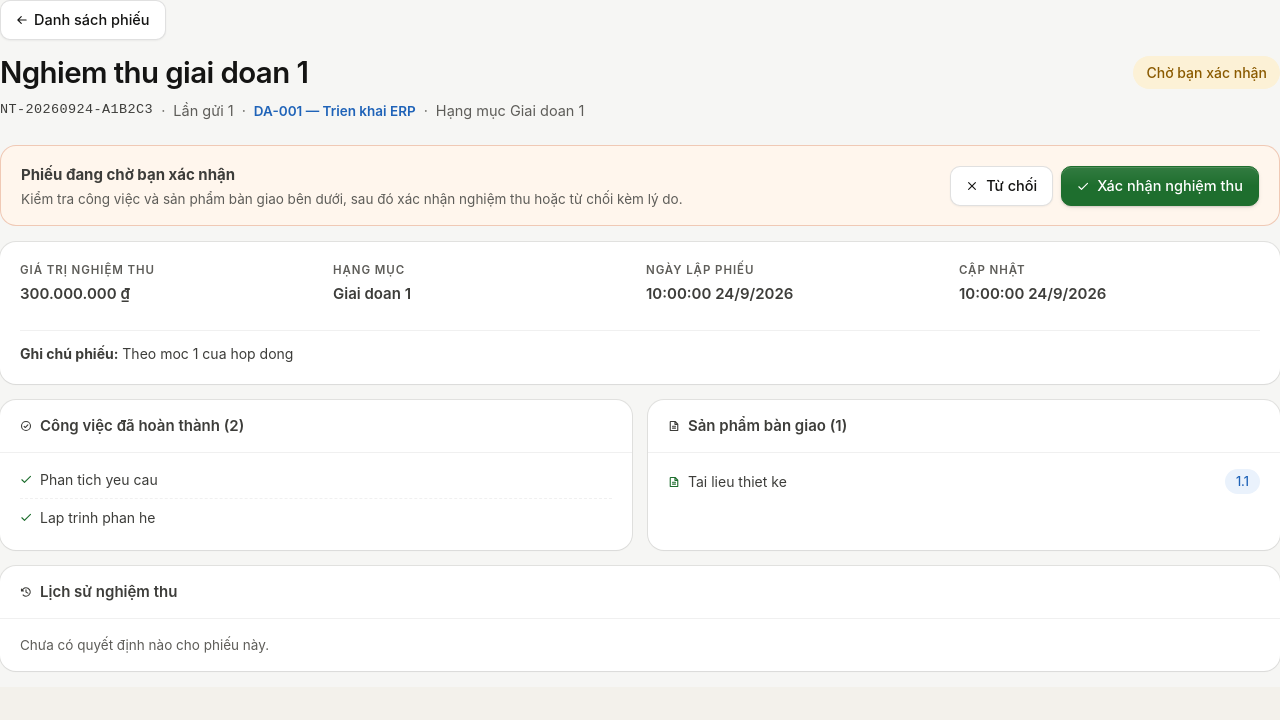
Test: NCL-13-CN-003 — Khách hàng duyệt phiếu nghiệm thu trên cổng › TC-01: xác nhận cần tích đồng ý; xác nhận xong phiếu → Đã nghiệm thu kèm người ký, thời điểm; khoá thao tác
The image size is (1280, 720).
Click the button with test id "portal-open-confirm" at (1160, 186), box [1061, 166, 1259, 206]
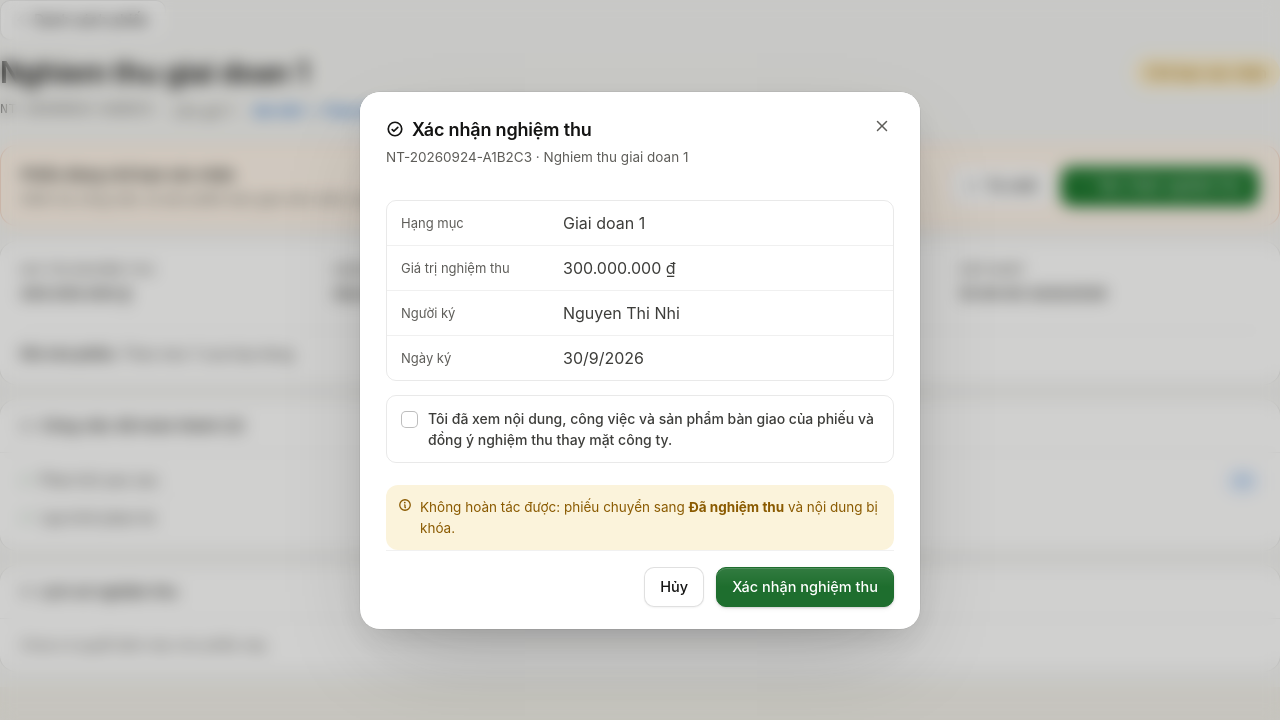
Now the element with test id "portal-decision-modal" shows "Nguyen Thi Nhi", box [563, 303, 680, 323]
Click the button with test id "portal-decision-submit" at (805, 587), box [716, 567, 894, 607]
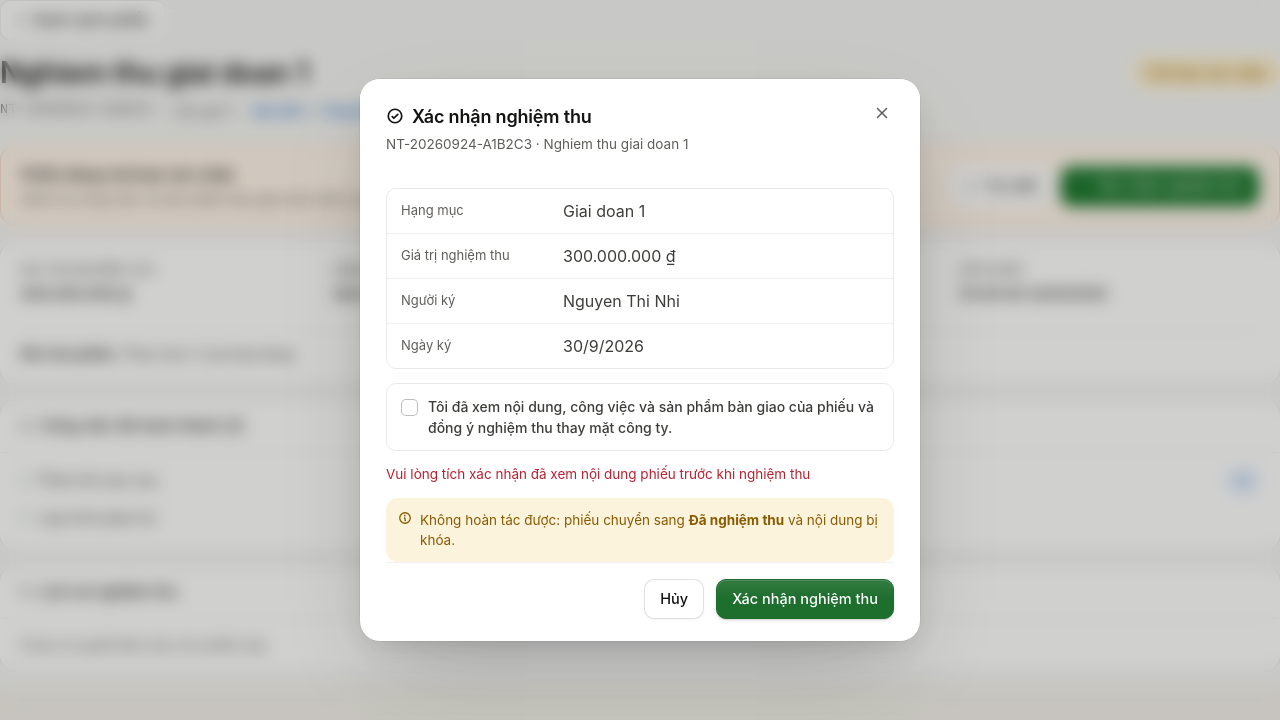
Now the text "tích xác nhận đã xem nội dung" is shown, box [386, 466, 810, 482]
Click the checkbox at (410, 407), box [401, 399, 418, 416]
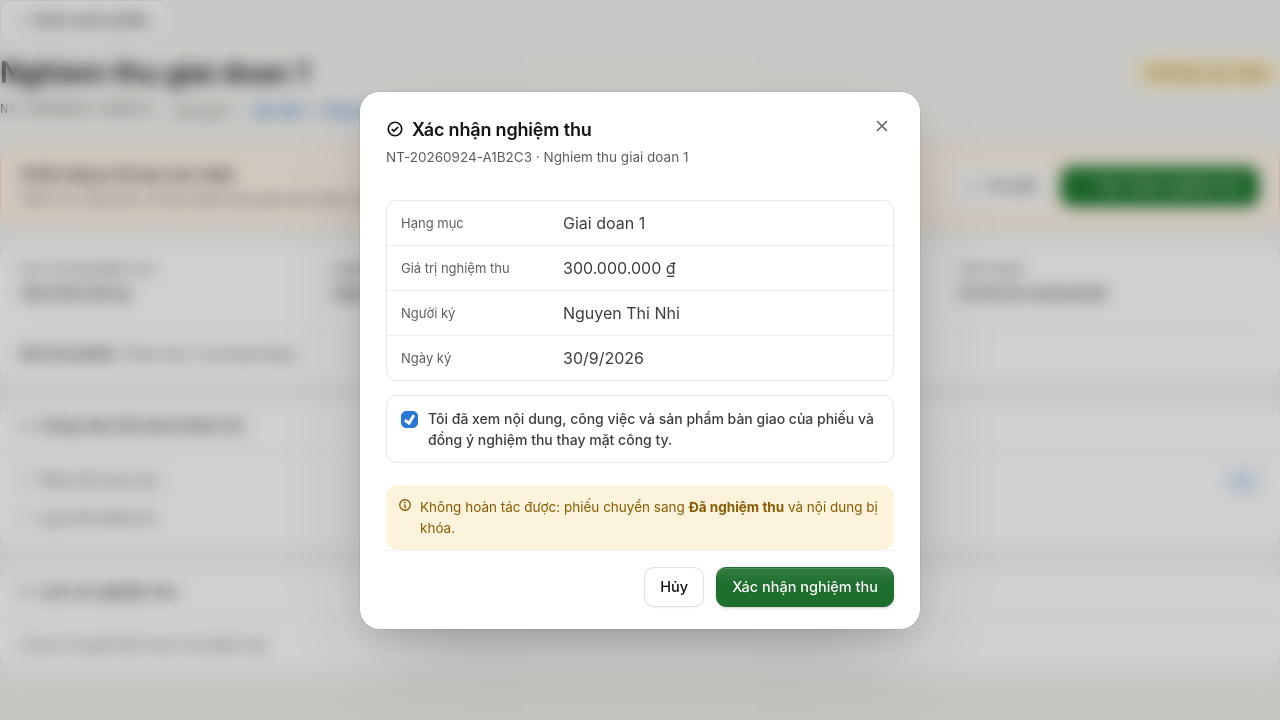
Click the button with test id "portal-decision-submit" at (805, 587), box [716, 567, 894, 607]
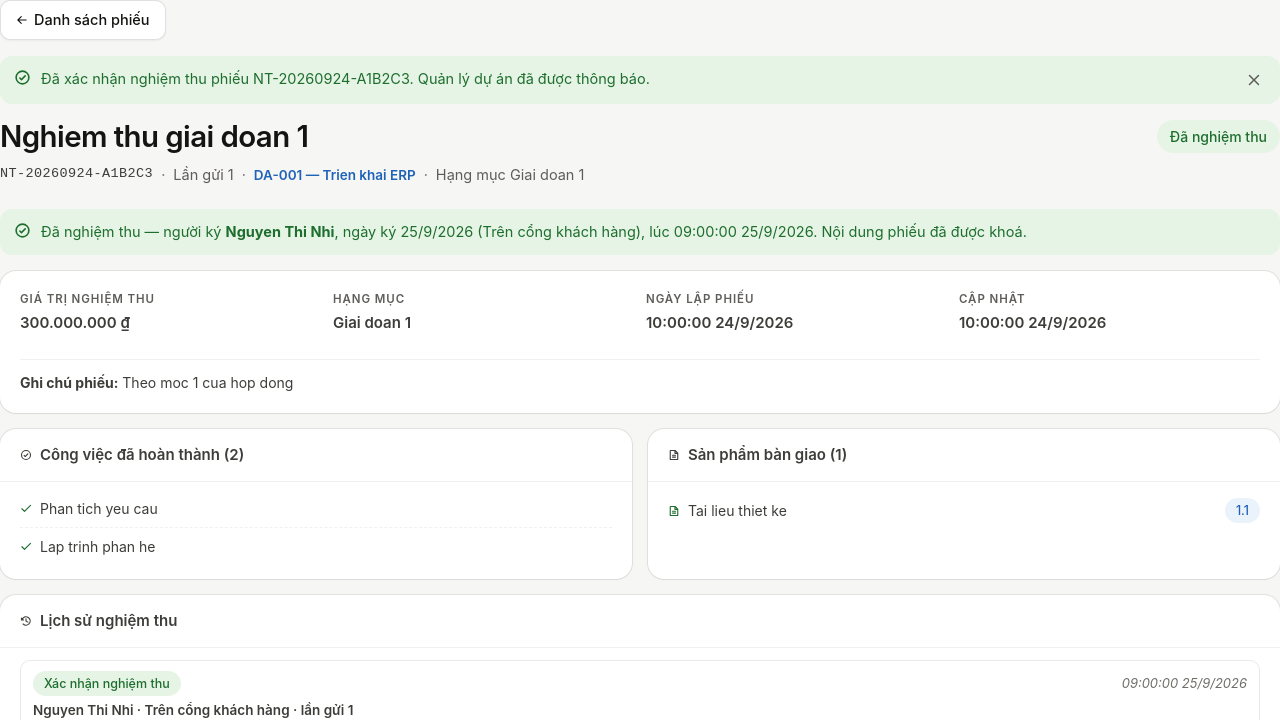
Now the element with test id "portal-acceptance-accepted" shows "Nguyen Thi Nhi", box [226, 223, 334, 240]
Now the text with test id "portal-acceptance-status" reads "Đã nghiệm thu", box [1170, 128, 1267, 145]
Now the message with test id "portal-acceptance-notice" shows "Đã xác nhận nghiệm thu", box [41, 70, 650, 87]
